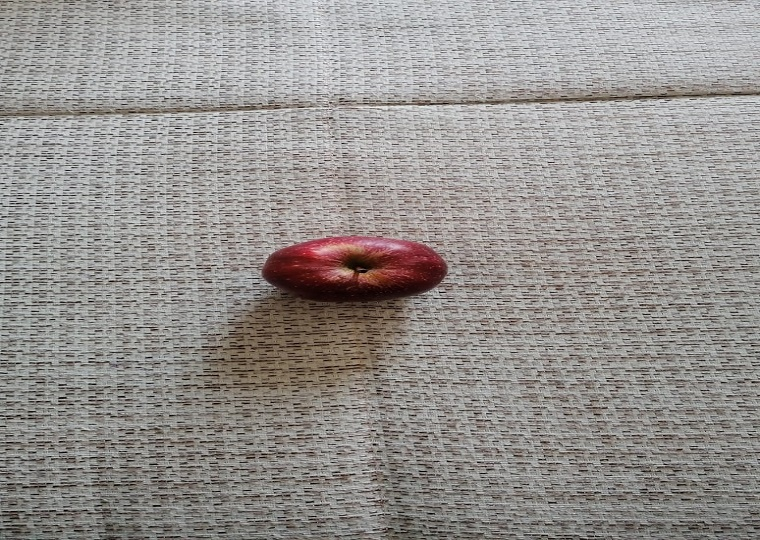elma: (261, 234, 452, 304)
